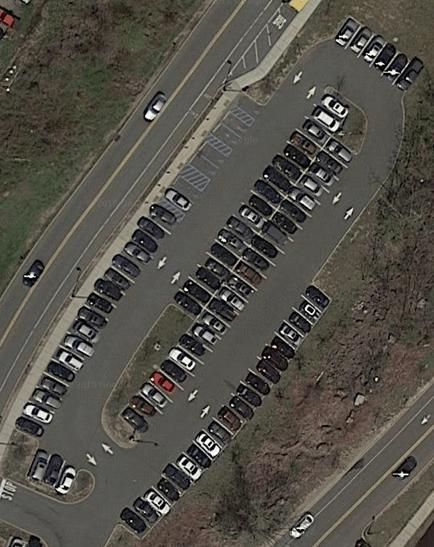parkingspot: (117, 133, 359, 439), (115, 279, 334, 541), (168, 89, 351, 323), (13, 203, 183, 444), (331, 13, 427, 96), (25, 446, 83, 495), (187, 139, 231, 183), (161, 173, 205, 217), (209, 109, 252, 153), (233, 90, 267, 121)
